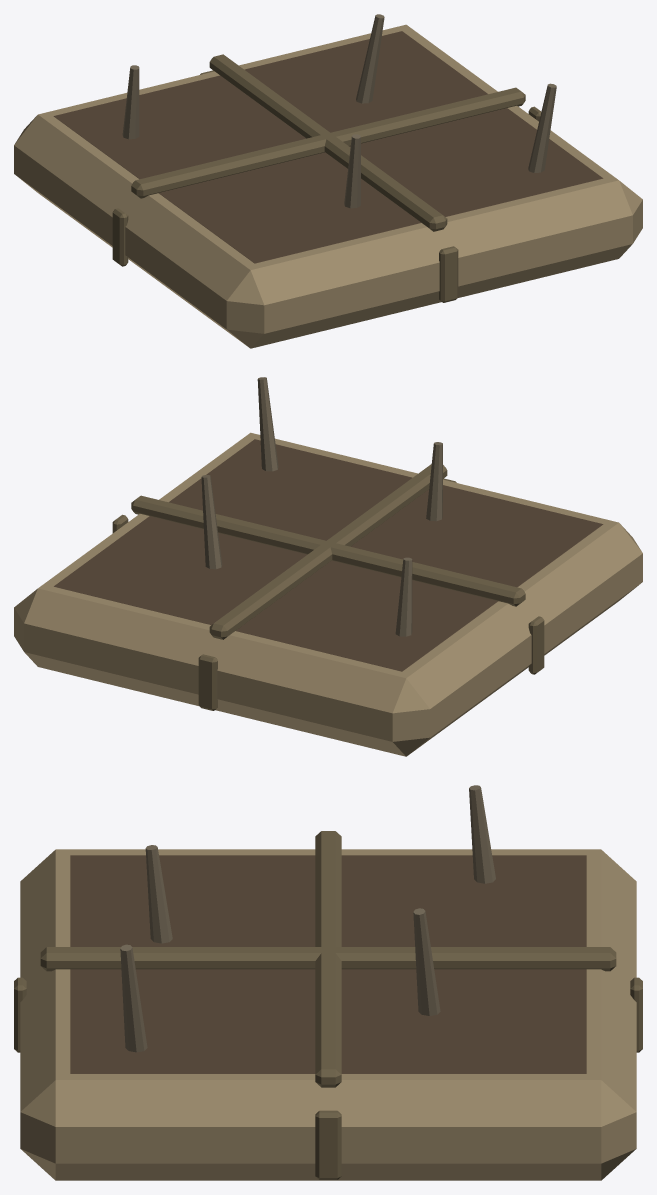
Rendered from flowers_1_packed_winter.glb.
The picture shows the model from 3 angles, top to bottom: view 1: azimuth 30°, elevation 25°; view 2: azimuth 150°, elevation 25°; view 3: azimuth 270°, elevation 25°; orthographic projection. The views are drawn at different scales.
Parts seen in each view (by area): view 1: flowers_1_packed_winter; view 2: flowers_1_packed_winter; view 3: flowers_1_packed_winter.
Part boxes in pixels (x1,y1,x2,y2): flowers_1_packed_winter: (14,14,642,348); flowers_1_packed_winter: (14,377,642,756); flowers_1_packed_winter: (14,785,642,1180).
Size of the model in its own units: 1.25 by 0.457 by 1.25.
